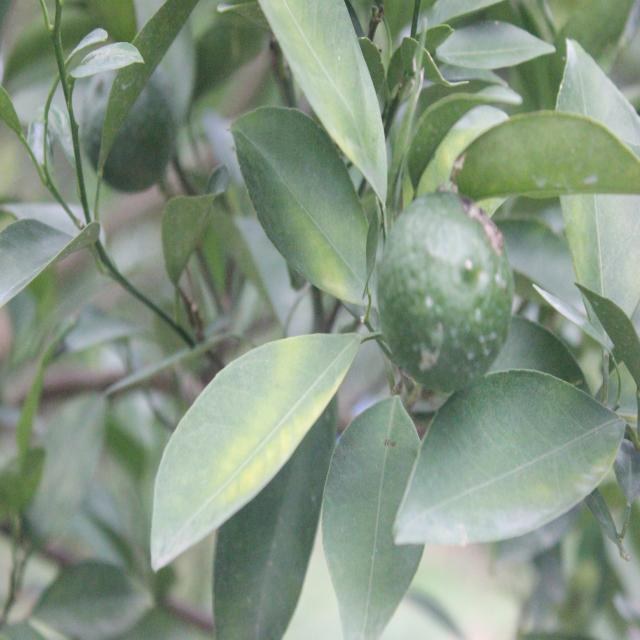greening: (158, 321, 360, 537), (408, 391, 622, 550), (252, 115, 364, 296), (289, 0, 387, 206)
